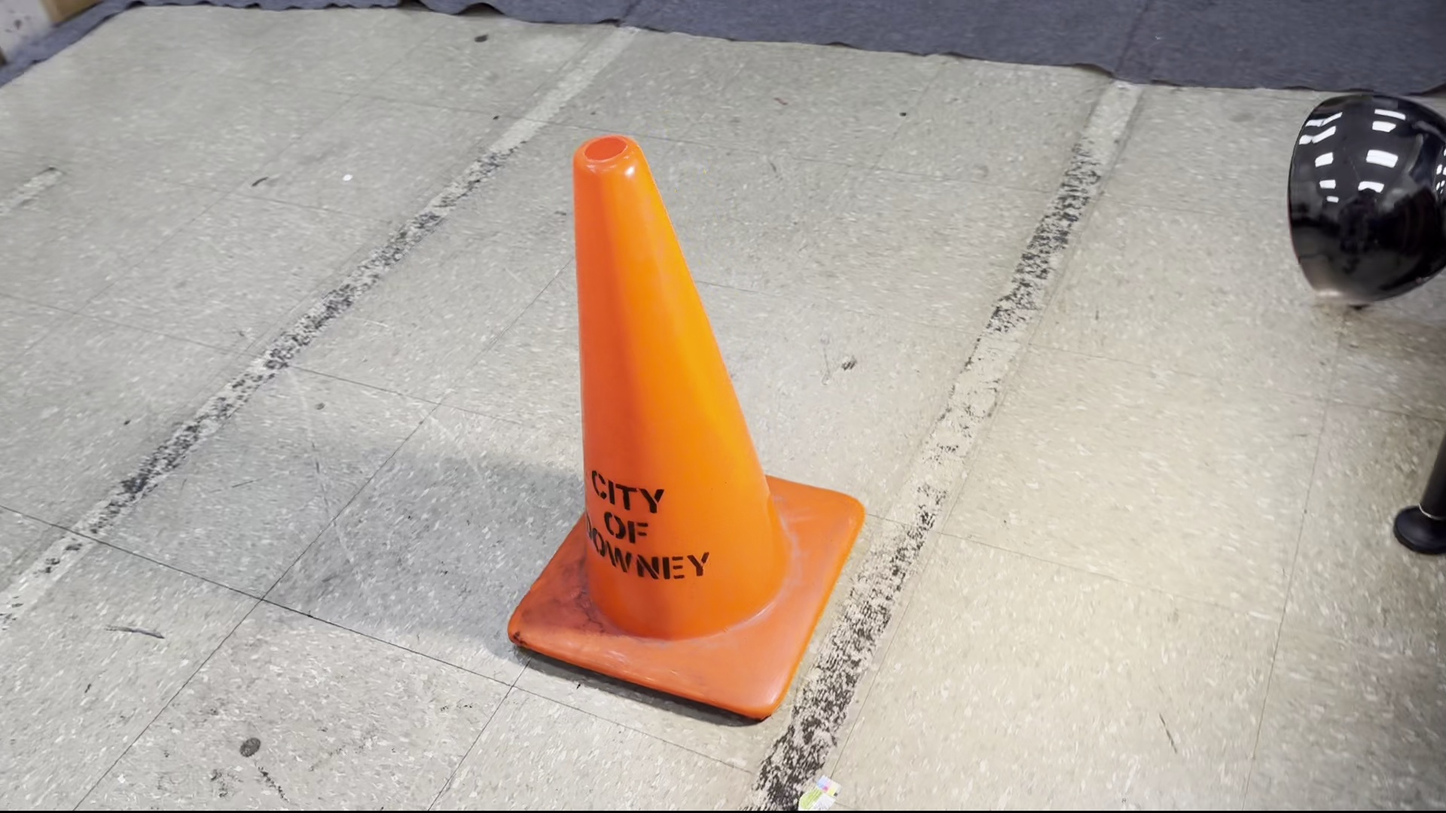traffic_cone: (506, 132, 866, 721)
